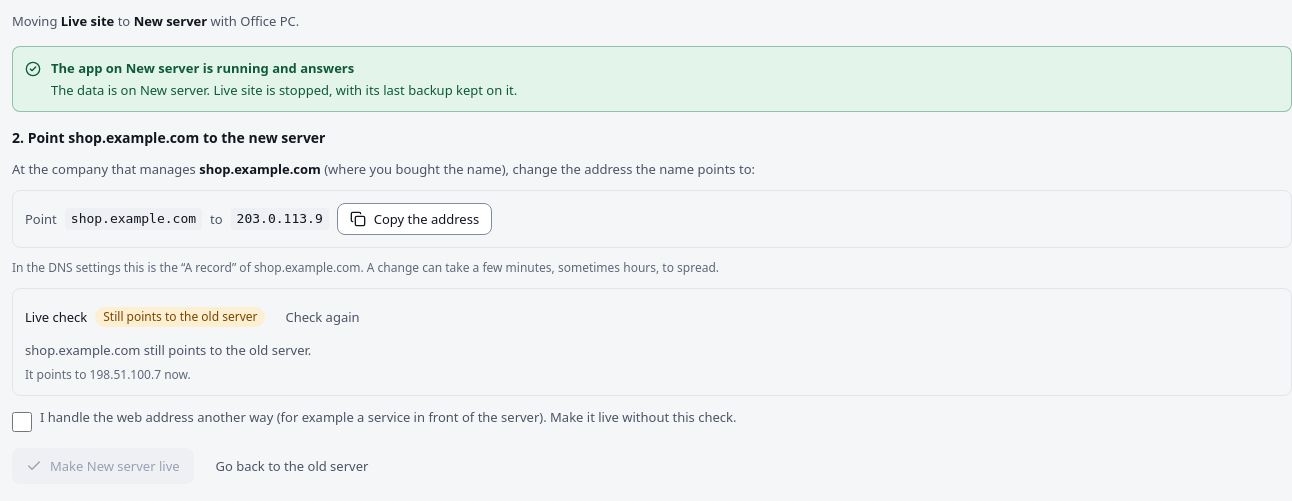
Test: following the move › pointing the domain › says what to change and where, checks it live, and keeps "make it live" off until the domain points here
This screenshot has width=1292, height=501.
Check: the text with test id "move-dns-address" reads "203.0.113.9", box [237,211,323,226]
Check: the text with test id "move-dns-domain" reads "shop.example.com", box [71,211,196,226]
handled another way: allowed, with a warning in the confirmation
Click the checkbox with test id "move-dns-other".
click(22, 422)  # box [12,412,32,432]
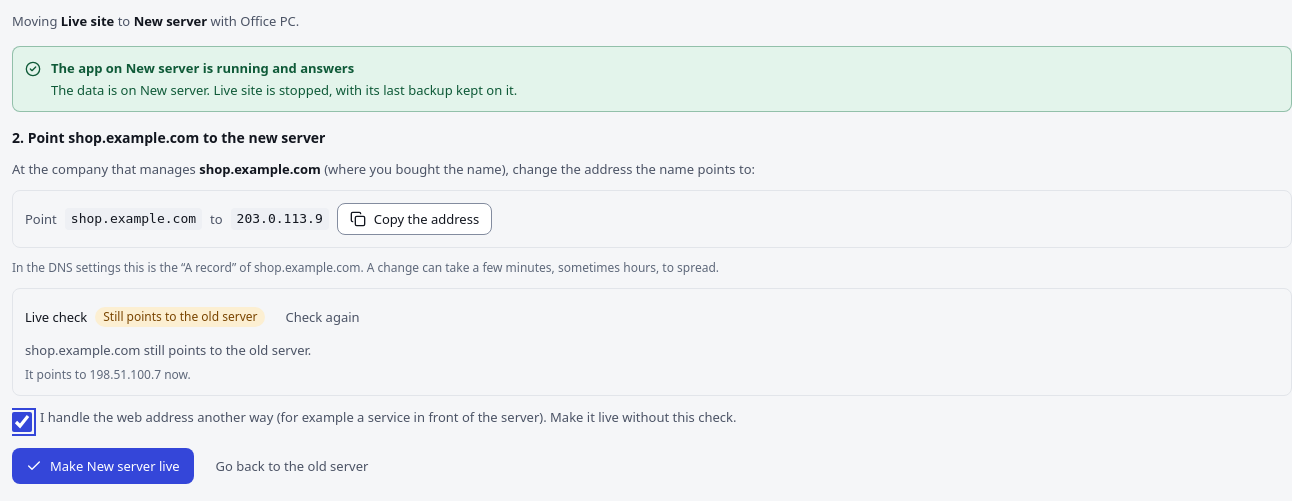
Check: the button with test id "move-golive" is enabled, box [12,448,194,484]
